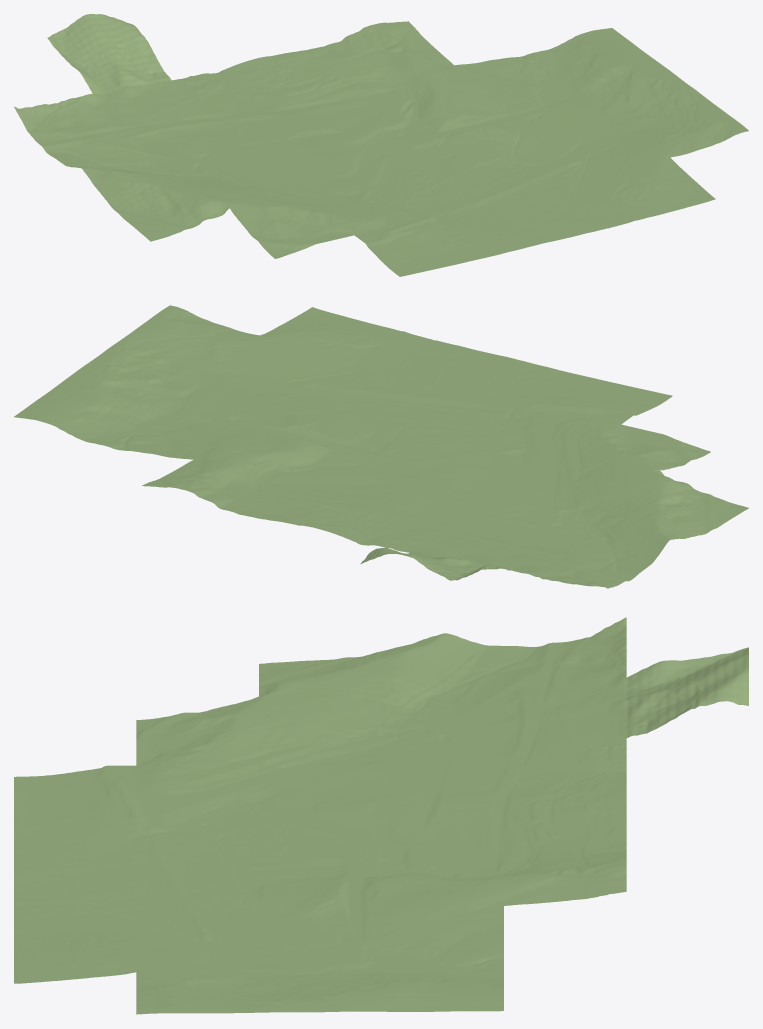
File: terrain_lod0.glb
The picture shows the model from 3 angles, top to bottom: view 1: azimuth 30°, elevation 25°; view 2: azimuth 150°, elevation 25°; view 3: azimuth 270°, elevation 25°; orthographic projection. The views are drawn at different scales.
Visible parts, largest first — view 1: t_5_8, t_4_5, t_4_7, t_8_7, t_5_7, t_7_7, t_6_7, t_5_4, t_10_5, t_8_6, t_8_5, t_9_3 (+18 smaller); view 2: t_9_4, t_10_6, t_10_4, t_10_5, t_8_3, t_4_6, t_5_5, t_6_4, t_7_4, t_8_4, t_7_3, t_8_6 (+18 smaller); view 3: t_5_5, t_4_6, t_6_4, t_9_6, t_5_8, t_6_3, t_7_3, t_7_4, t_7_6, t_7_7, t_6_5, t_5_7 (+18 smaller).
Boxes of the visible parts, left/top/right/bottom form: t_5_8: left=47, top=14, right=171, bottom=94; t_4_5: left=105, top=178, right=229, bottom=241; t_4_7: left=14, top=93, right=138, bottom=161; t_8_7: left=330, top=21, right=453, bottom=89; t_5_7: left=93, top=80, right=216, bottom=144; t_7_7: left=251, top=44, right=374, bottom=107; t_6_7: left=172, top=60, right=295, bottom=126; t_5_4: left=229, top=199, right=353, bottom=258; t_10_5: left=579, top=62, right=702, bottom=127; t_8_6: left=375, top=65, right=499, bottom=130; t_8_5: left=421, top=107, right=544, bottom=169; t_9_3: left=591, top=157, right=715, bottom=220; t_9_4: left=208, top=335, right=349, bottom=402; t_10_6: left=14, top=379, right=155, bottom=445; t_10_4: left=118, top=305, right=258, bottom=377; t_10_5: left=66, top=342, right=207, bottom=412; t_8_3: left=350, top=331, right=491, bottom=389; t_4_6: left=555, top=511, right=696, bottom=568; t_5_5: left=517, top=460, right=658, bottom=513; t_6_4: left=479, top=404, right=620, bottom=462; t_7_4: left=389, top=390, right=529, bottom=446; t_8_4: left=298, top=367, right=439, bottom=425; t_7_3: left=441, top=354, right=581, bottom=406; t_8_6: left=195, top=431, right=335, bottom=487; t_5_5: left=259, top=693, right=381, bottom=767; t_4_6: left=381, top=633, right=503, bottom=711; t_6_4: left=136, top=757, right=258, bottom=825; t_9_6: left=381, top=905, right=503, bottom=973; t_5_8: left=626, top=647, right=748, bottom=737; t_6_3: left=14, top=765, right=136, bottom=830; t_7_3: left=14, top=820, right=136, bottom=882; t_7_4: left=136, top=820, right=258, bottom=880; t_7_6: left=381, top=807, right=503, bottom=871; t_7_7: left=504, top=788, right=626, bottom=860; t_6_5: left=259, top=763, right=381, bottom=824; t_5_7: left=504, top=678, right=626, bottom=754.
Size of the model in its own units: 1792 by 231 by 1536.
